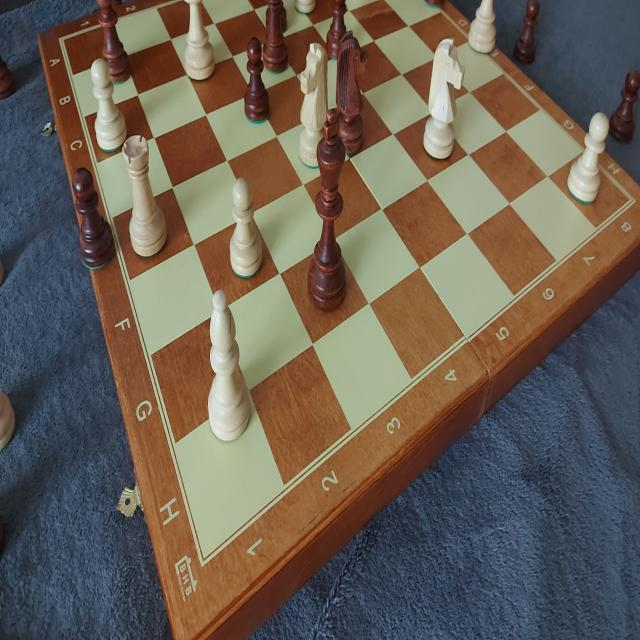chess-table-corners: (178, 514, 238, 598), (617, 184, 639, 213), (52, 26, 74, 55)
